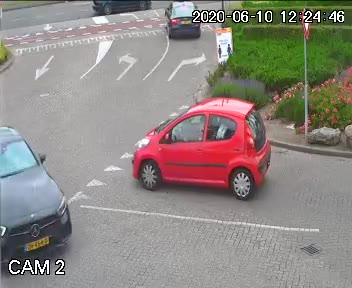car: (122, 92, 286, 210), (0, 123, 75, 259)
